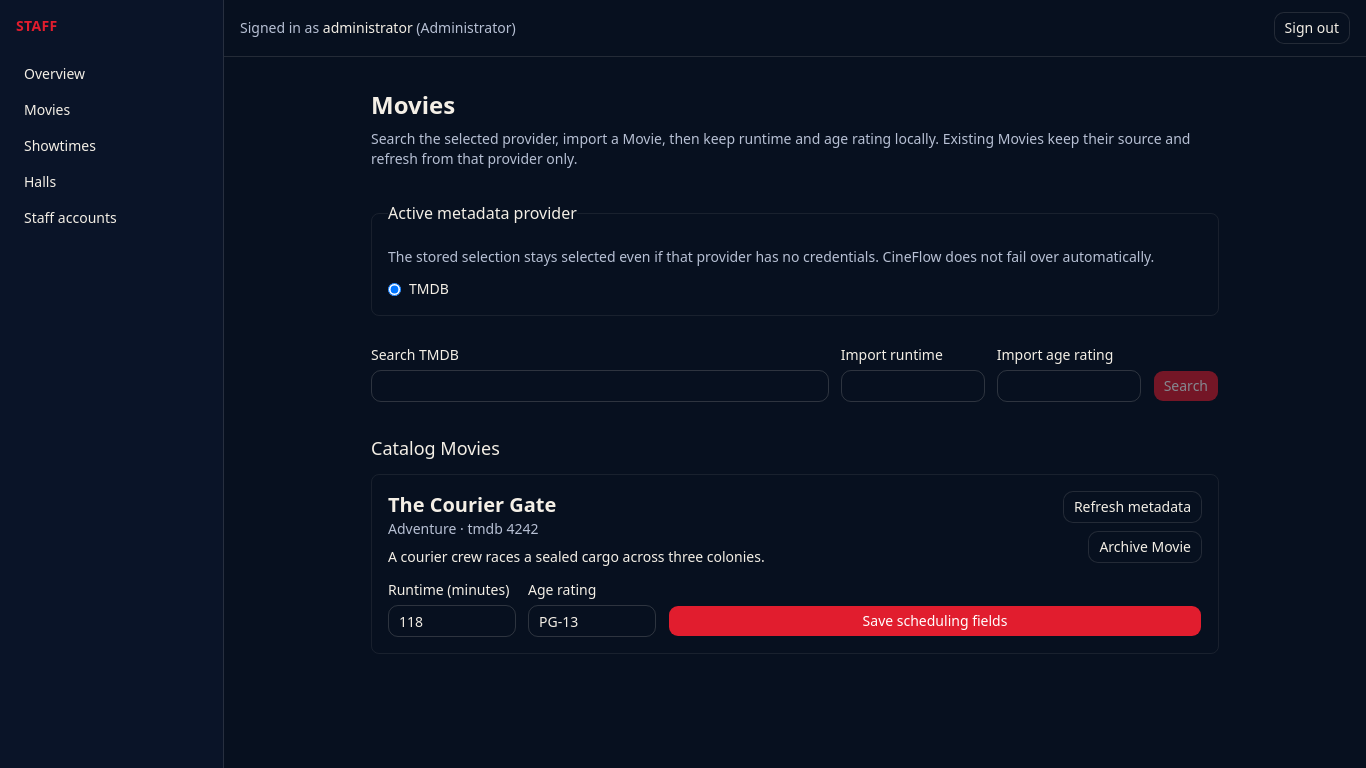
Test: AdminMoviesPage › refreshes descriptive metadata through the catalog client
The width and height of the screenshot is (1366, 768).
Click the button "Refresh metadata" at (1132, 507), box [1063, 491, 1202, 523]
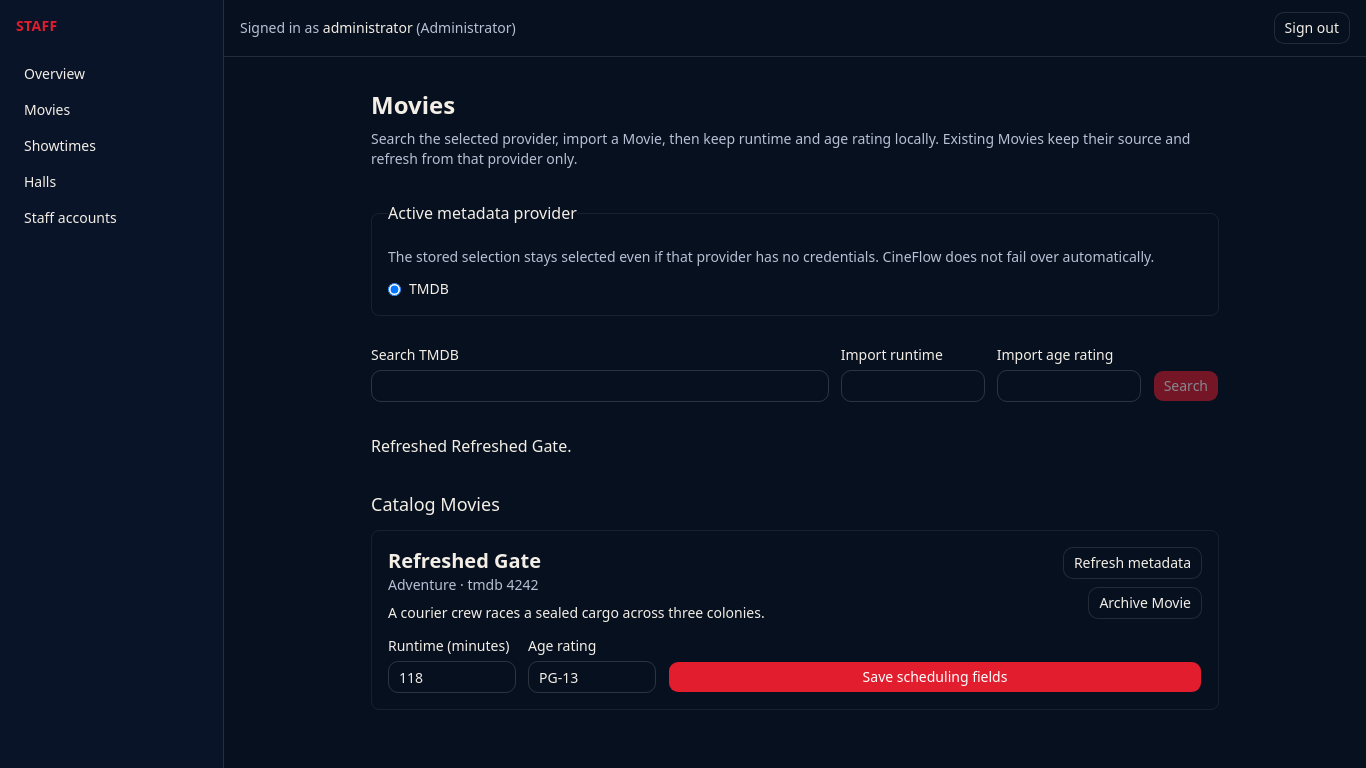
Check: the message reads "Refreshed Refreshed Gate.", box [371, 435, 572, 457]
